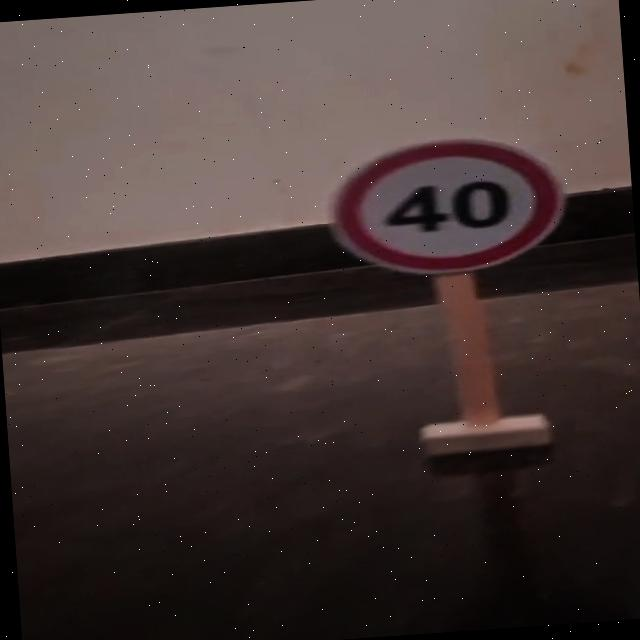Speed40: (316, 124, 578, 286)
